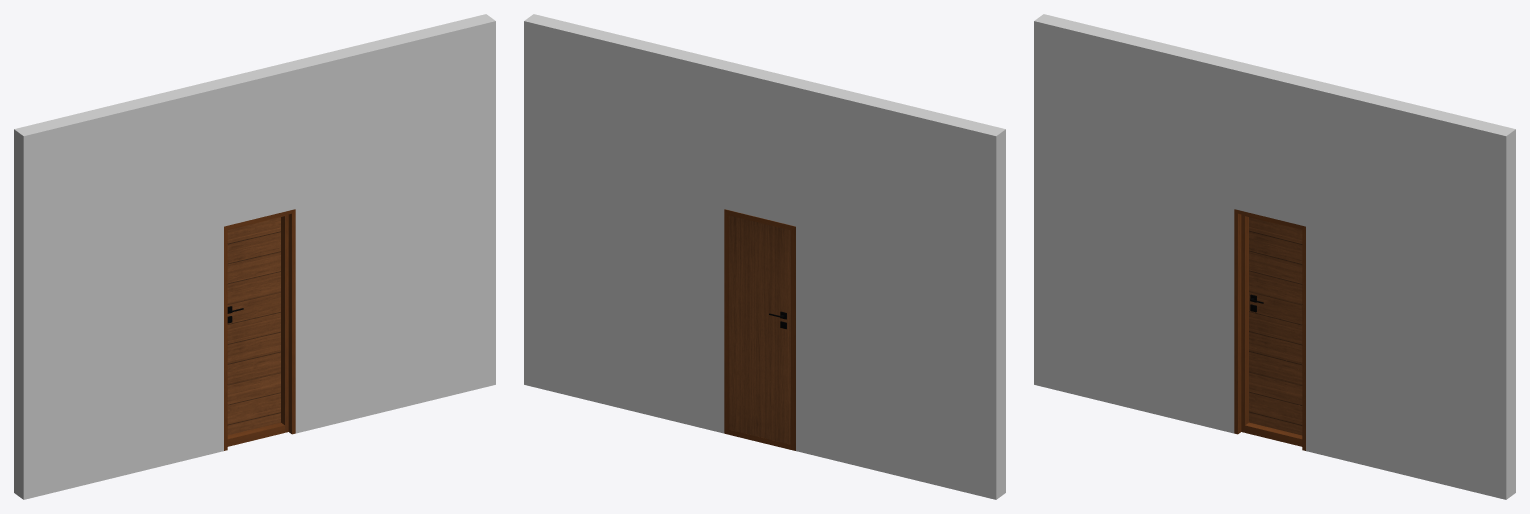
3 views of the same model, side by side, from view 1: azimuth 30°, elevation 25°; view 2: azimuth 150°, elevation 25°; view 3: azimuth 330°, elevation 25° (orthographic).
Visible parts, largest first — view 1: wall_, ABHAIMANYA_DOORS__3a_door, _3a_jamb, _3a_90_60_frame, _3a_threshold; view 2: wall_, ABHAIMANYA_DOORS__3a_door, _3a_90_60_frame; view 3: wall_, ABHAIMANYA_DOORS__3a_door, _3a_jamb, _3a_90_60_frame, _3a_threshold.
Part boxes in pixels (left/top/right/bottom): wall_: left=14, top=14, right=495, bottom=499; ABHAIMANYA_DOORS__3a_door: left=227, top=217, right=280, bottom=435; _3a_jamb: left=224, top=209, right=295, bottom=450; _3a_90_60_frame: left=227, top=214, right=288, bottom=432; _3a_threshold: left=227, top=422, right=284, bottom=446; wall_: left=524, top=14, right=1005, bottom=499; ABHAIMANYA_DOORS__3a_door: left=729, top=215, right=790, bottom=444; _3a_90_60_frame: left=724, top=209, right=795, bottom=450; wall_: left=1034, top=14, right=1515, bottom=499; ABHAIMANYA_DOORS__3a_door: left=1249, top=217, right=1302, bottom=435; _3a_jamb: left=1234, top=209, right=1305, bottom=450; _3a_90_60_frame: left=1241, top=214, right=1302, bottom=432; _3a_threshold: left=1245, top=422, right=1302, bottom=446.
Bounding box in the file's own units: 3.96 × 2.92 × 0.179.
3 materials, 2 textured.
